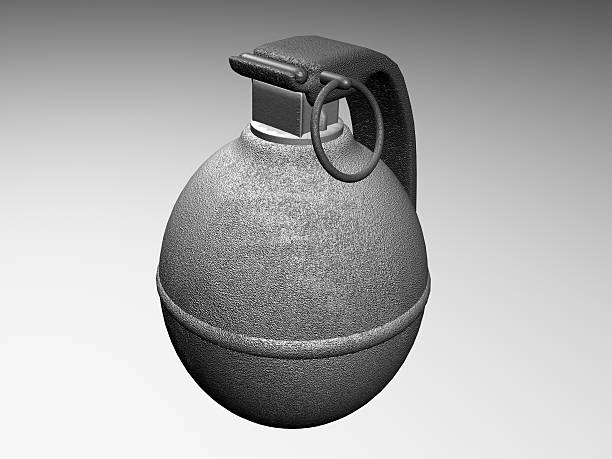e1: (157, 33, 433, 432)
